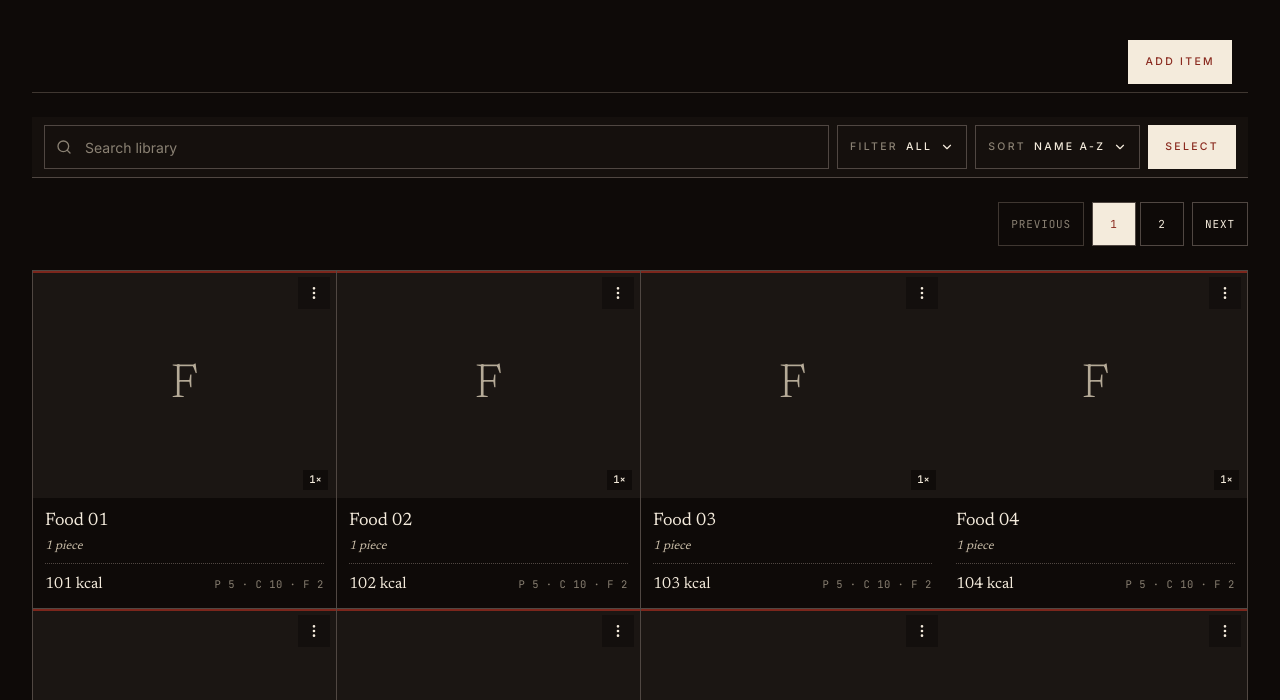
it: <LibraryClient /> pagination › shows only 10 real cards on the first page and the remaining real cards on page 2
Expected: the element with test id "library-card-item-1" is shown, [33, 271, 336, 608]
Expected: the navigation bar with test id "library-pagination-top" is shown, [998, 202, 1248, 246]
Click the button with test id "library-pagination-top-next" at (1220, 224), box [1192, 202, 1248, 246]
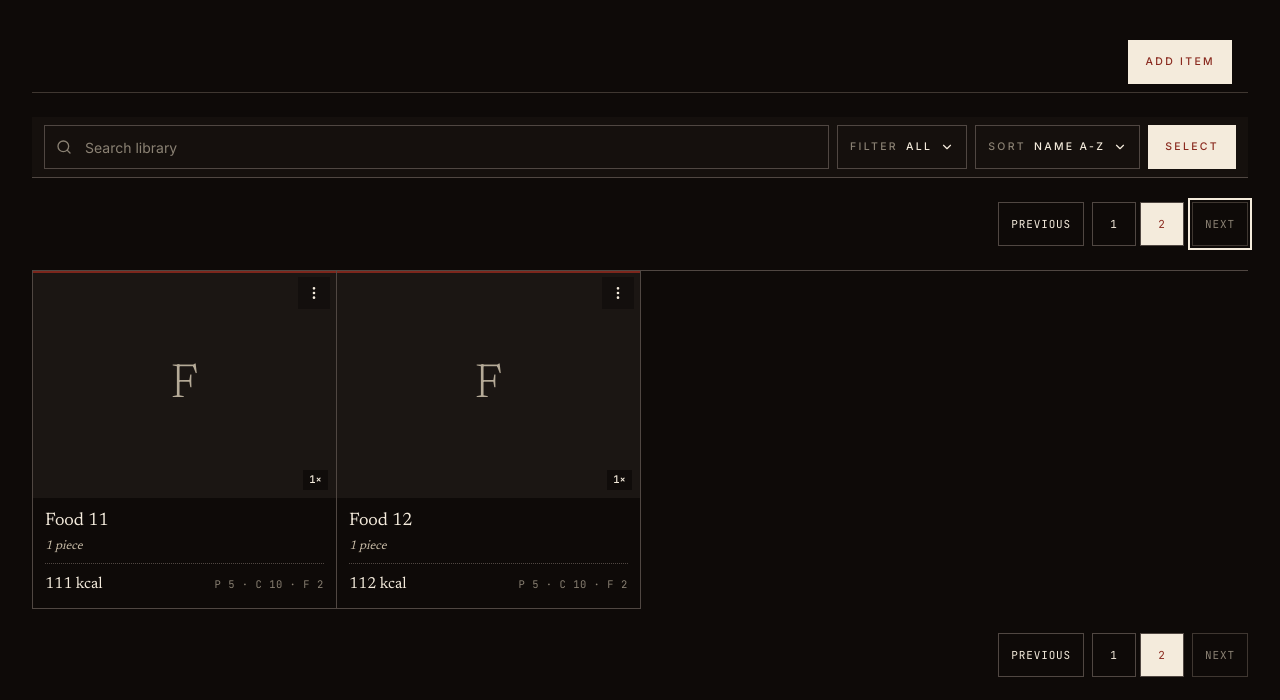
Expected: the element with test id "library-card-item-11" is shown, [33, 271, 336, 608]
Expected: the element with test id "library-card-item-12" is shown, [337, 271, 640, 608]
Expected: the element with test id "library-card-item-1" is gone
